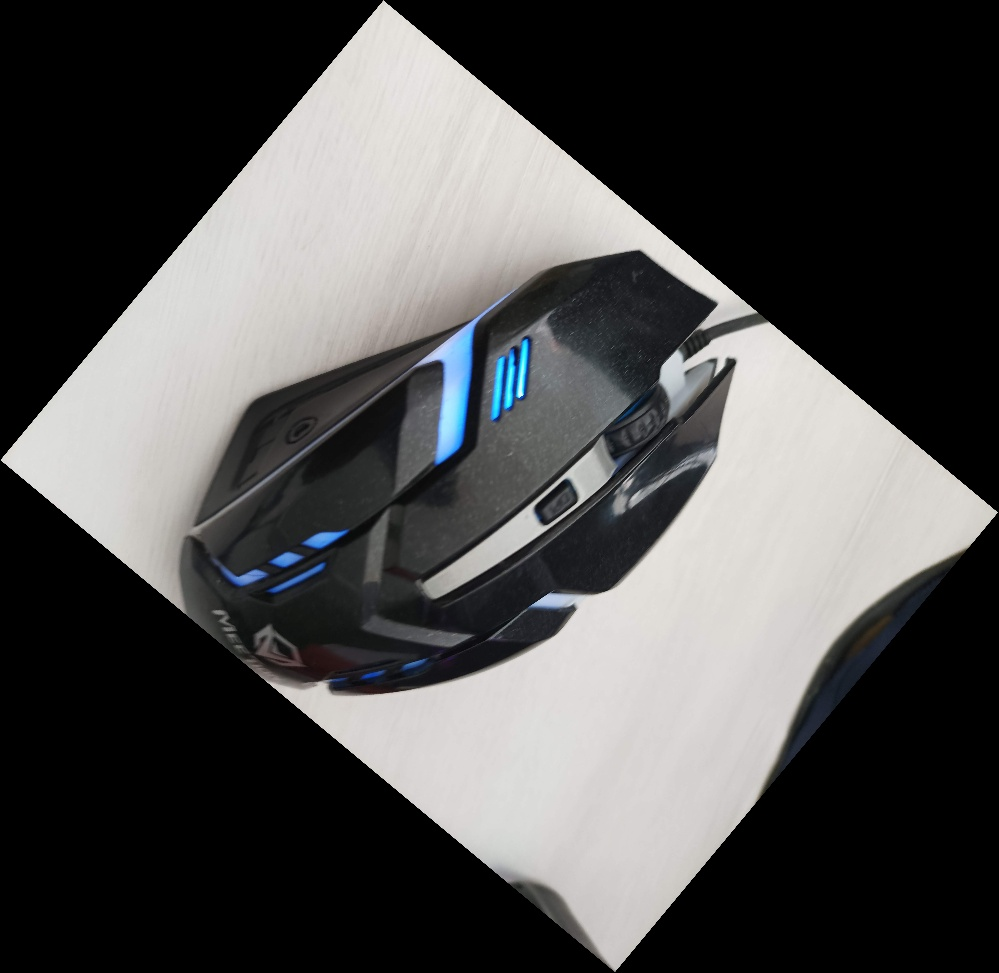mouse: (182, 246, 741, 700)
